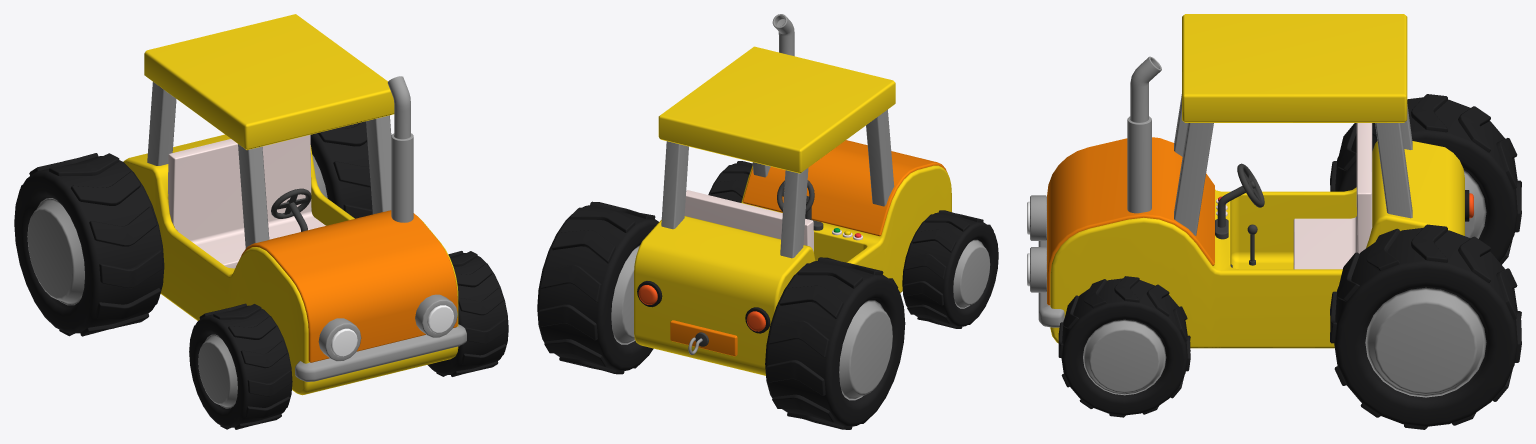
File: Farm_16_Tractor_1.glb
The picture shows the model from 3 angles, left to right: view 1: azimuth 30°, elevation 25°; view 2: azimuth 150°, elevation 25°; view 3: azimuth 270°, elevation 25°; orthographic projection. The views are drawn at different scales.
Parts seen in each view (by area): view 1: Farm_16_Tractor_1; view 2: Farm_16_Tractor_1; view 3: Farm_16_Tractor_1.
Part boxes in pixels (x1,y1,x2,y2): Farm_16_Tractor_1: [14, 14, 508, 429]; Farm_16_Tractor_1: [537, 14, 998, 429]; Farm_16_Tractor_1: [1027, 14, 1521, 429].
Bounding box in the file's own units: 3.05 × 2.67 × 3.7.
Materials: 1 (1 with a texture image).
